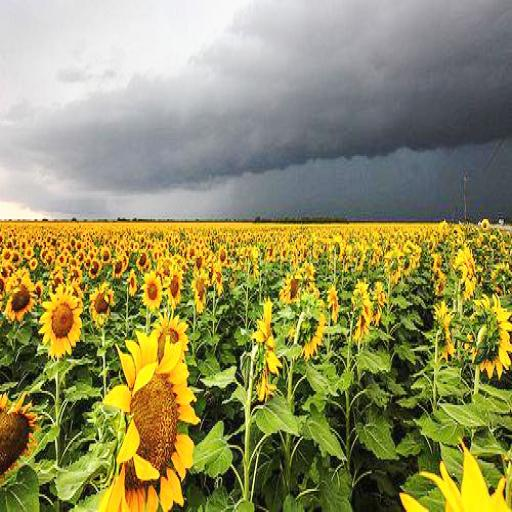sunflower: (107, 329, 197, 512), (38, 286, 84, 354), (480, 291, 512, 377), (290, 300, 324, 365), (253, 300, 274, 398), (4, 275, 33, 321), (352, 279, 372, 345), (455, 242, 477, 296), (90, 282, 113, 323), (141, 272, 163, 308), (192, 266, 206, 310), (168, 272, 182, 302)
